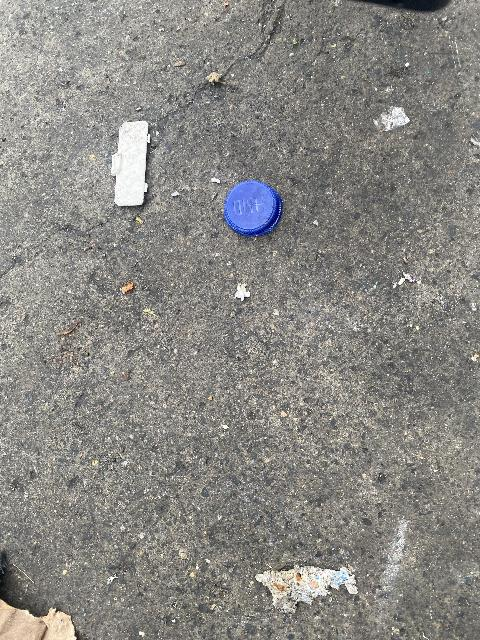Kagit: (106, 116, 162, 217)
Plastik: (227, 171, 279, 235)
